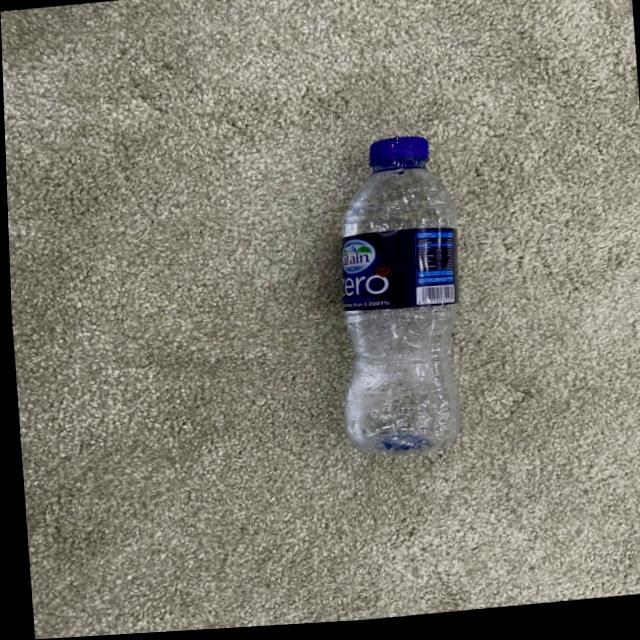anorganik: (305, 122, 466, 471)
